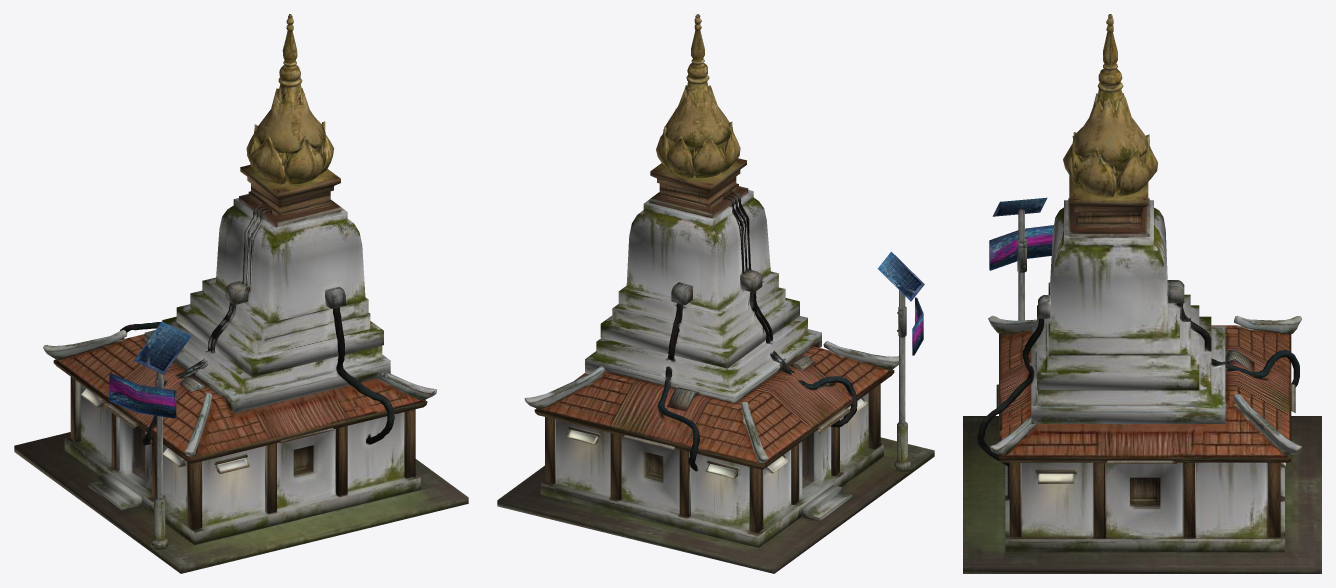
The model's file is lao_that.glb.
3 views of the same model, side by side, from view 1: azimuth 30°, elevation 25°; view 2: azimuth 150°, elevation 25°; view 3: azimuth 270°, elevation 25° (orthographic). The views are drawn at different scales.
Visible parts, largest first — view 1: Body; view 2: Body; view 3: Body.
Boxes of the visible parts, x1,y1,x2,y2 form: Body: [14, 14, 468, 573]; Body: [497, 14, 934, 573]; Body: [963, 14, 1321, 573].
Bounding box in the file's own units: 12.65 × 18 × 11.66.
Materials: 2 (2 with a texture image).
